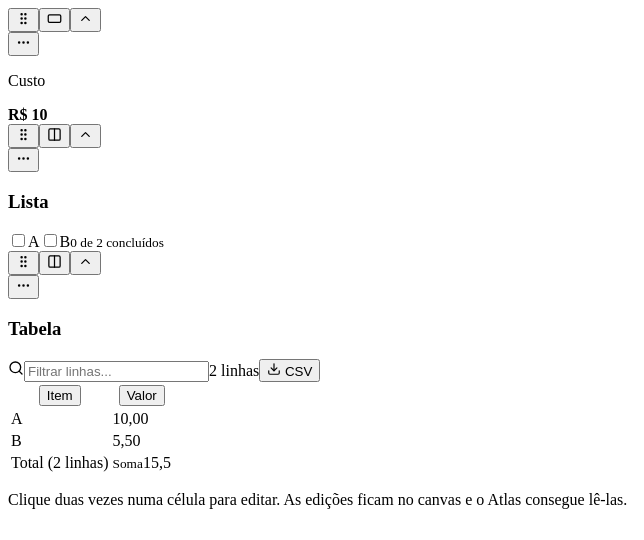
Scenario: keeps width and folding in the block state
Click the 1st button named "Usar meia largura".
click(54, 136)  # box [39,124,70,148]
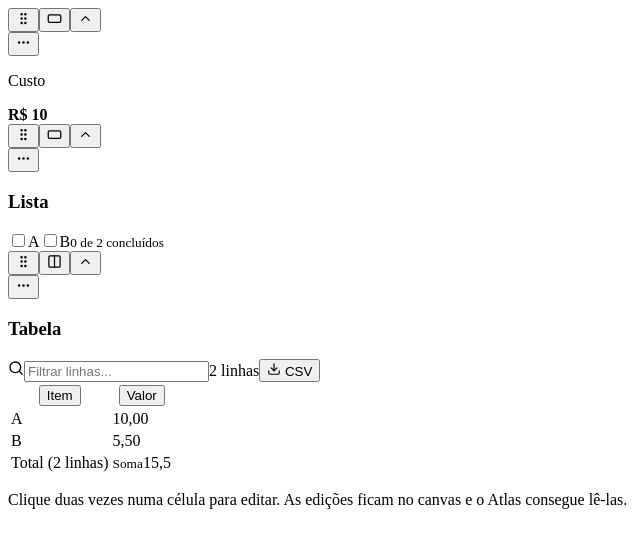
Now the element showing "Lista A B0 de 2 concluídos" has class "w-half", box [8,124,164,250]
Click the 2nd button named "Recolher bloco".
click(86, 136)  # box [70,124,101,148]
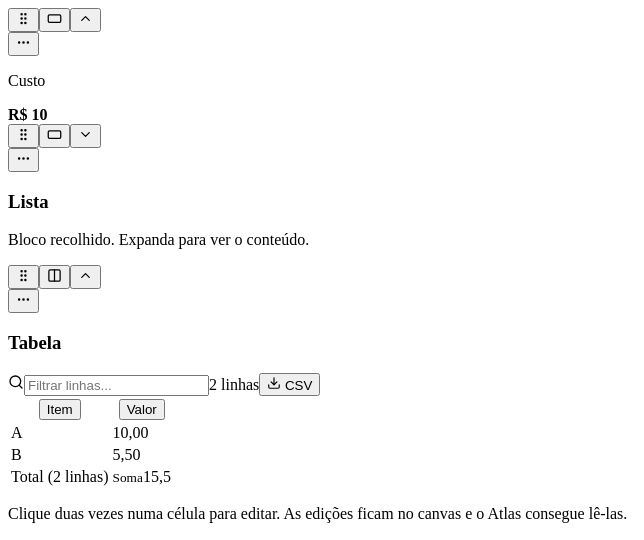
Expected: the 1st button named "Usar largura total" is shown, [39,8,70,32]
Now the text "Bloco recolhido. Expanda para ver o conteúdo." is shown, box [8,231,309,248]
